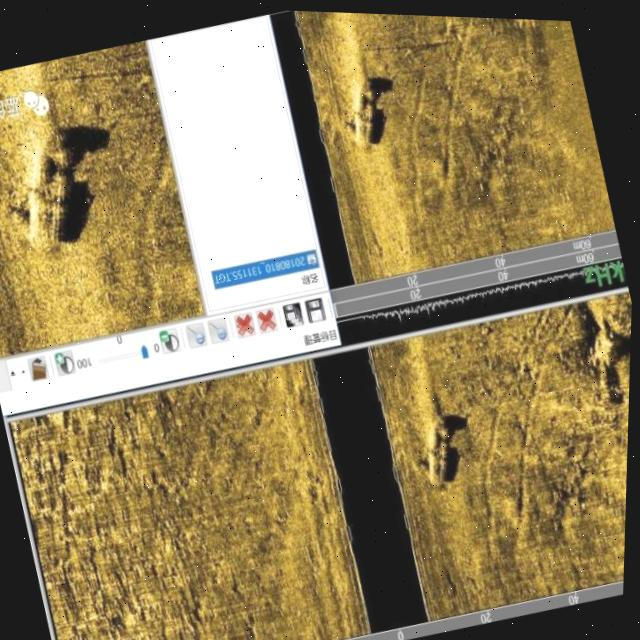shipwreck: (3, 126, 91, 262), (413, 405, 465, 487), (342, 72, 386, 150)
